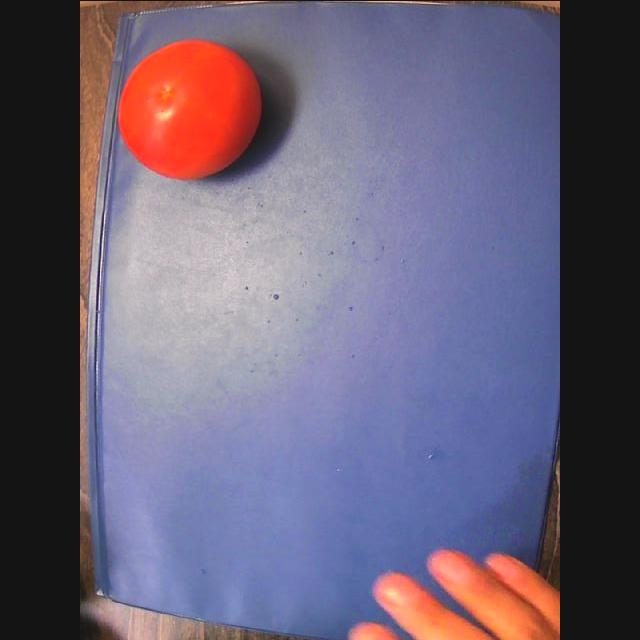tomate: (118, 39, 261, 178)
